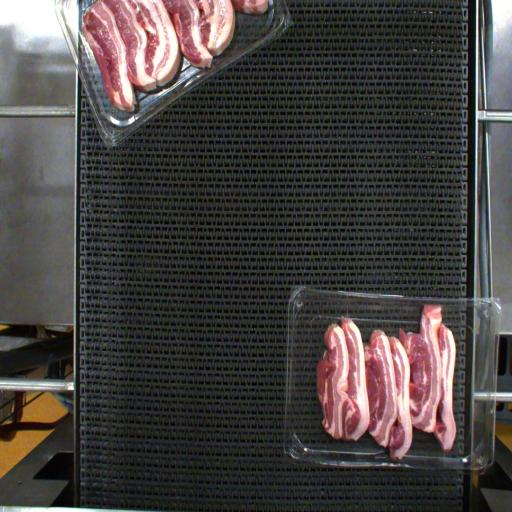packaging-error: (414, 286, 447, 314)
